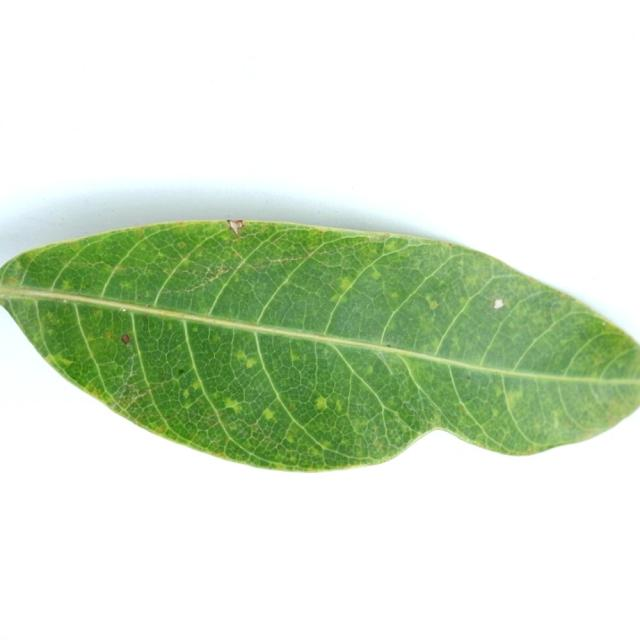Mango: (0, 221, 639, 471)
Powdery_Mildew: (117, 381, 159, 409), (106, 327, 138, 349), (234, 348, 258, 370), (44, 352, 75, 369), (310, 392, 332, 415), (385, 357, 410, 376), (505, 388, 527, 407), (207, 266, 229, 281), (555, 287, 576, 301), (222, 398, 241, 413), (426, 337, 442, 354), (386, 409, 404, 422), (605, 399, 621, 413), (338, 278, 353, 292), (303, 238, 317, 252), (426, 295, 439, 309), (464, 275, 479, 287), (551, 411, 561, 429), (384, 240, 400, 251), (583, 428, 599, 439), (492, 297, 505, 310), (86, 383, 100, 395), (450, 336, 462, 350), (263, 408, 275, 420), (210, 391, 222, 403), (373, 439, 385, 451), (60, 279, 72, 290), (369, 268, 381, 279), (182, 398, 194, 409), (191, 380, 202, 391), (363, 365, 374, 376), (494, 385, 504, 397), (122, 282, 134, 292), (5, 276, 19, 284), (291, 351, 301, 362), (45, 311, 56, 321), (310, 446, 321, 456), (134, 228, 145, 238), (286, 433, 296, 443), (229, 423, 239, 433), (156, 424, 167, 433), (492, 407, 501, 418), (120, 386, 129, 397), (92, 309, 102, 318), (210, 334, 220, 342), (111, 265, 121, 273), (460, 297, 468, 306), (177, 241, 186, 249), (177, 368, 186, 376), (389, 292, 399, 299), (381, 233, 391, 240), (288, 403, 296, 411), (105, 332, 113, 340), (159, 311, 169, 317), (47, 328, 55, 335), (171, 379, 178, 387), (307, 464, 315, 470), (249, 321, 257, 327), (317, 228, 324, 233), (192, 327, 198, 332), (447, 242, 453, 247), (466, 375, 471, 380), (178, 221, 184, 225), (85, 240, 89, 245)
